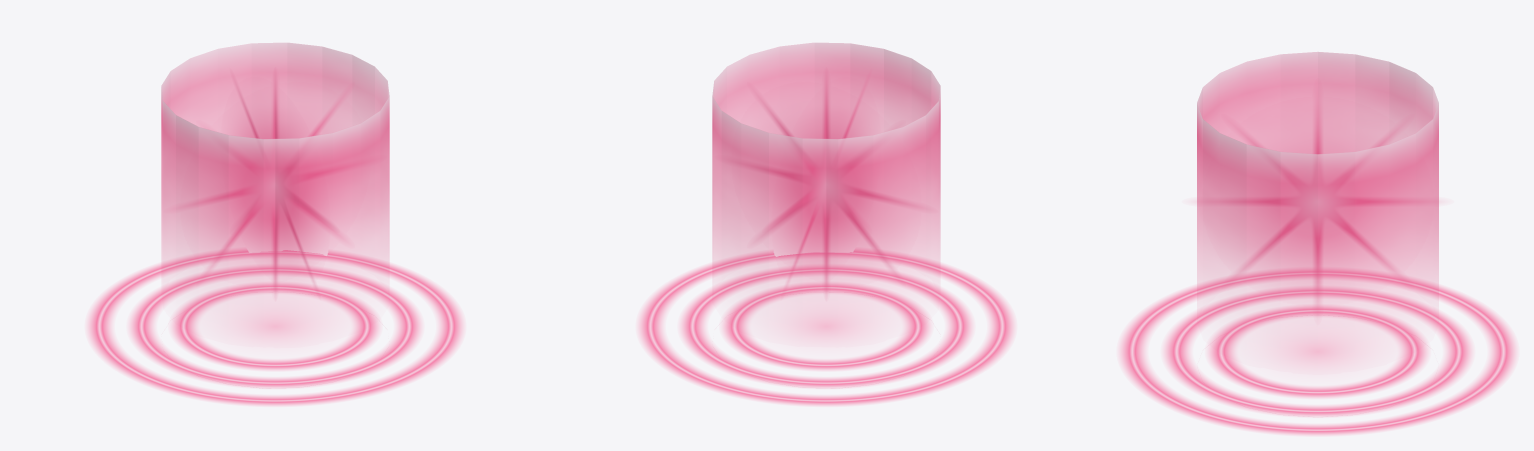
File: fx_boom_t2.glb
3 renders of one model, left to right at view 1: azimuth 30°, elevation 25°; view 2: azimuth 150°, elevation 25°; view 3: azimuth 270°, elevation 25°, orthographic. The views are drawn at different scales.
Parts seen in each view (by area): view 1: fx_boom_wall, fx_boom_ring, fx_boom_flash; view 2: fx_boom_wall, fx_boom_ring, fx_boom_flash; view 3: fx_boom_wall, fx_boom_ring, fx_boom_flash.
Boxes of the visible parts, <box> form: fx_boom_wall: <box>161,42,389,297</box>; fx_boom_ring: <box>87,249,463,405</box>; fx_boom_flash: <box>184,73,354,293</box>; fx_boom_wall: <box>712,42,940,298</box>; fx_boom_ring: <box>638,249,1014,405</box>; fx_boom_flash: <box>743,73,917,293</box>; fx_boom_wall: <box>1197,52,1438,322</box>; fx_boom_ring: <box>1119,269,1516,435</box>; fx_boom_flash: <box>1209,92,1428,307</box>.
Size of the model in its own units: 1 by 0.8 by 1.
Materials: 3 (3 with a texture image).
